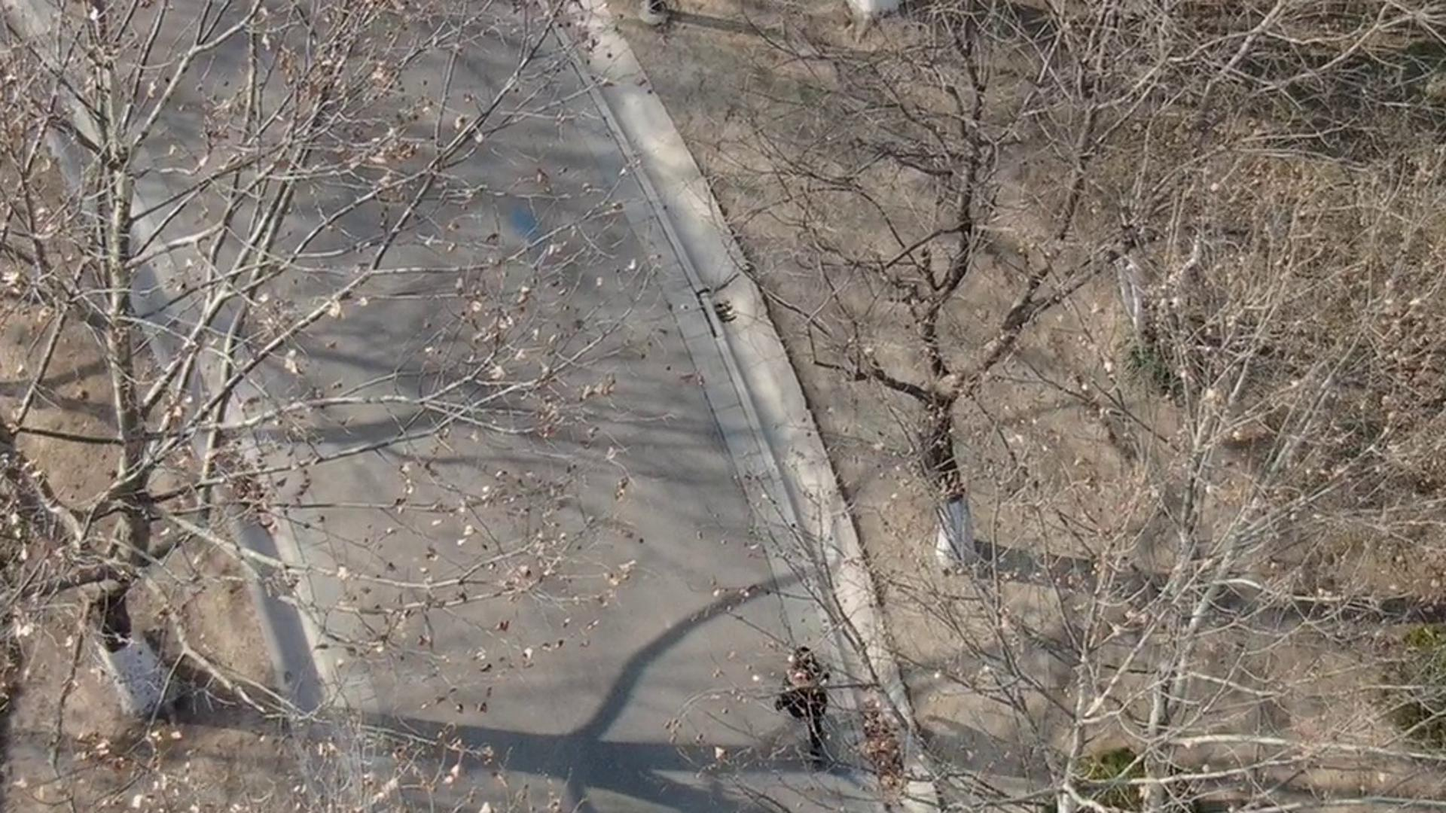human: (782, 635, 838, 752)
